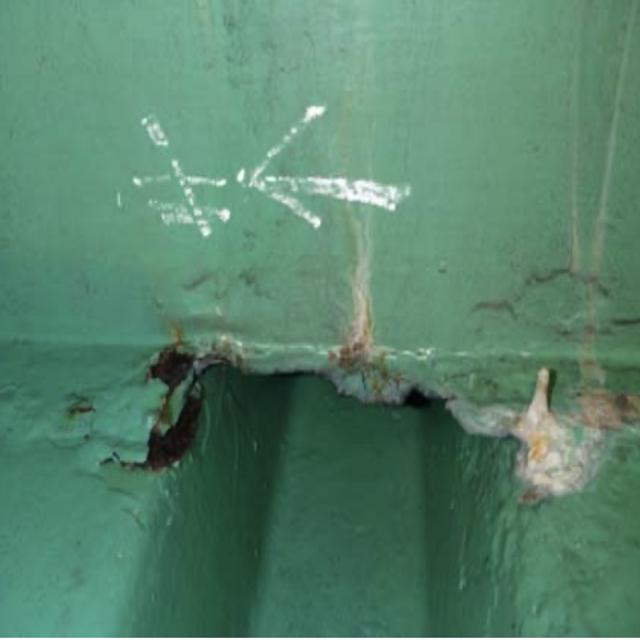corrosion: (72, 347, 207, 479)
freelime: (434, 369, 640, 484)
